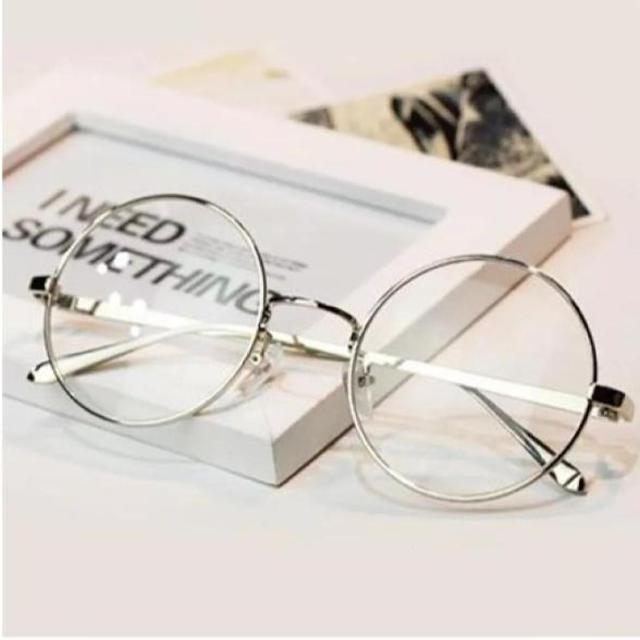glasses: (18, 168, 638, 530)
